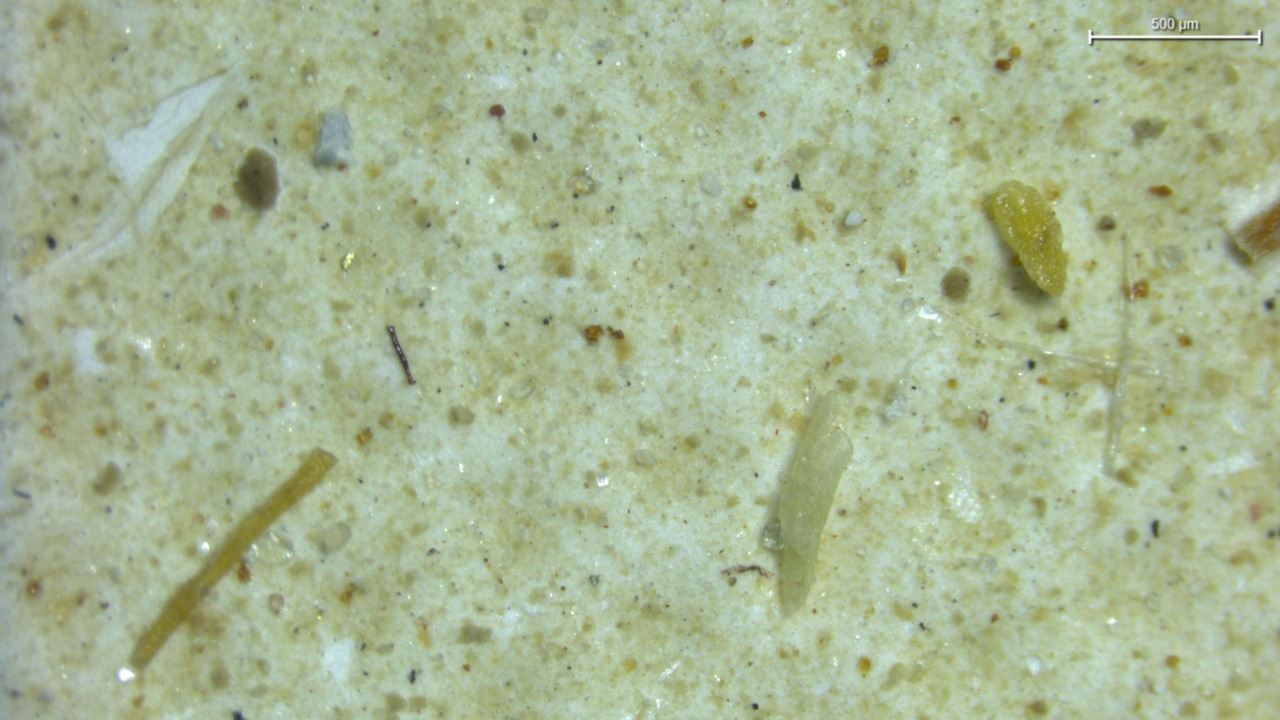microplastic_fragment: (762, 390, 853, 615), (986, 180, 1067, 295), (314, 106, 351, 169)
